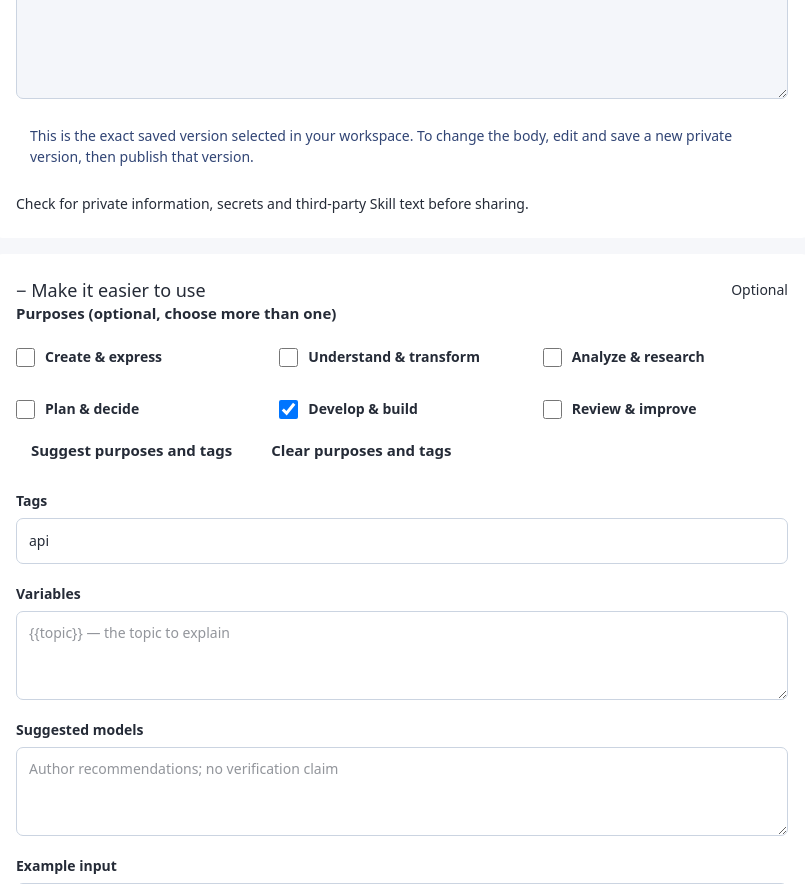
Test case: uses the selected private source descriptor and allows clearing it
(page scrolled)
Check: the checkbox labelled "Develop & build" is checked, box [279,400,298,419]
Click the button "Clear purposes and tags".
click(361, 451)  # box [256,430,466,471]
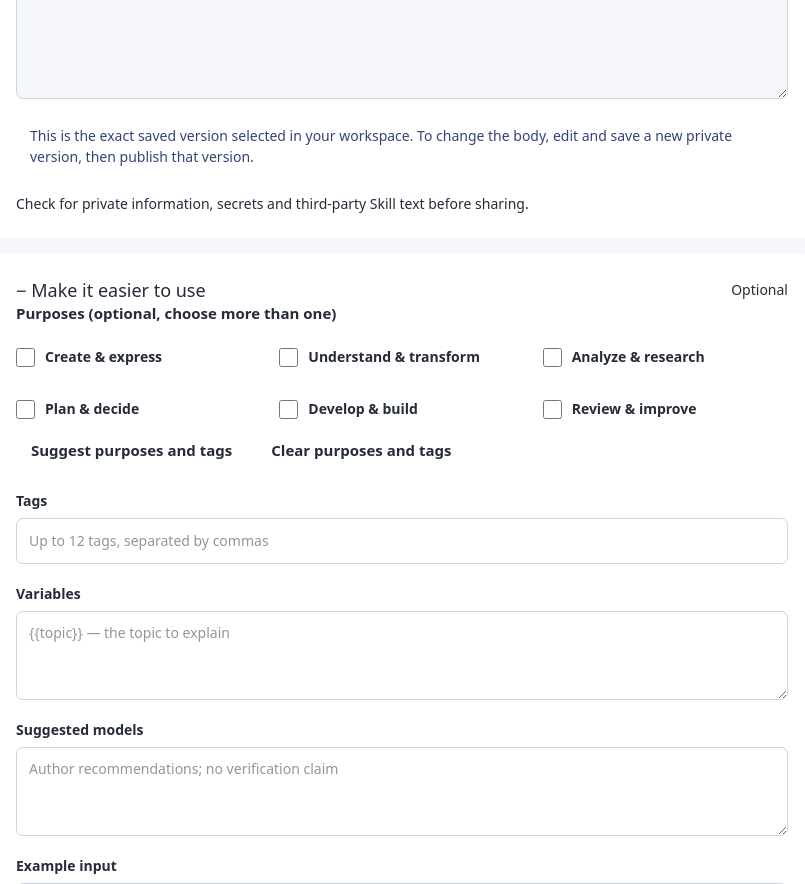
Check: the checkbox labelled "Develop & build" is not checked, box [279,400,298,419]
Check: the field labelled "Tags" is empty, box [16,518,788,564]
